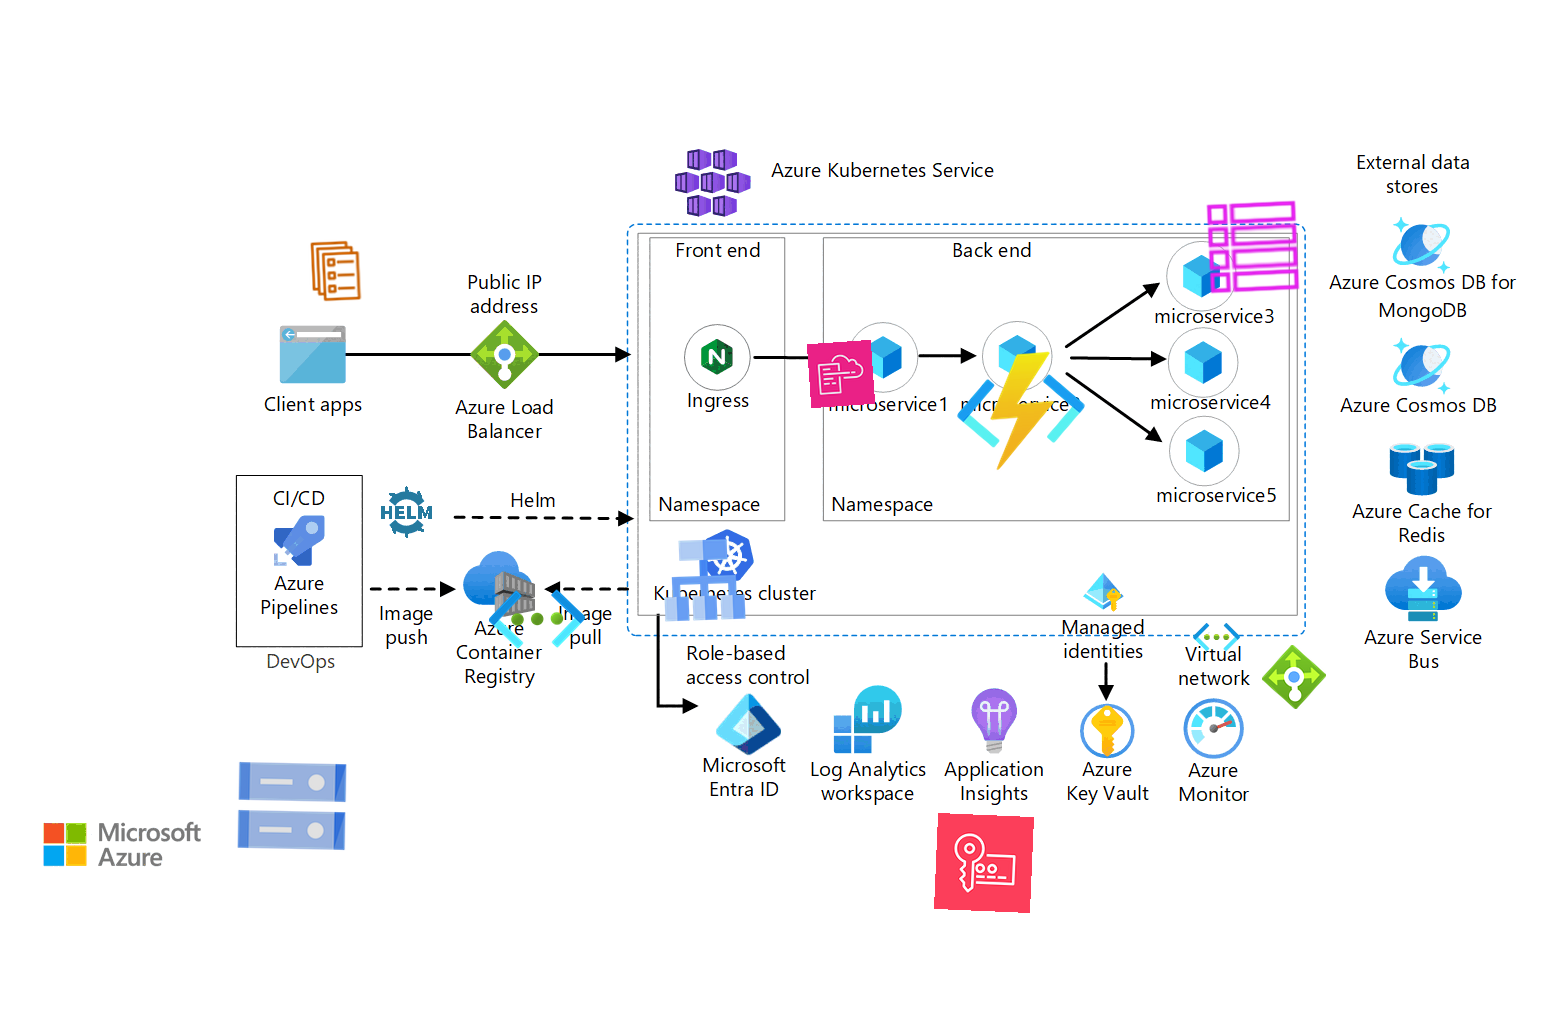aws_cloudformation: (805, 339, 876, 409)
aws_dynamodb_table: (1202, 196, 1304, 298)
aws_elastic_container_service_service: (302, 237, 370, 305)
aws_key_management_service: (933, 812, 1035, 914)
azure_function_apps: (952, 342, 1090, 480)
azure_load_balancers: (1260, 643, 1328, 711)
azure_virtual_networks: (487, 569, 587, 669)
gcp_cloud_load_balancing: (654, 530, 754, 630)
gcp_cloud_storage: (226, 740, 357, 872)
